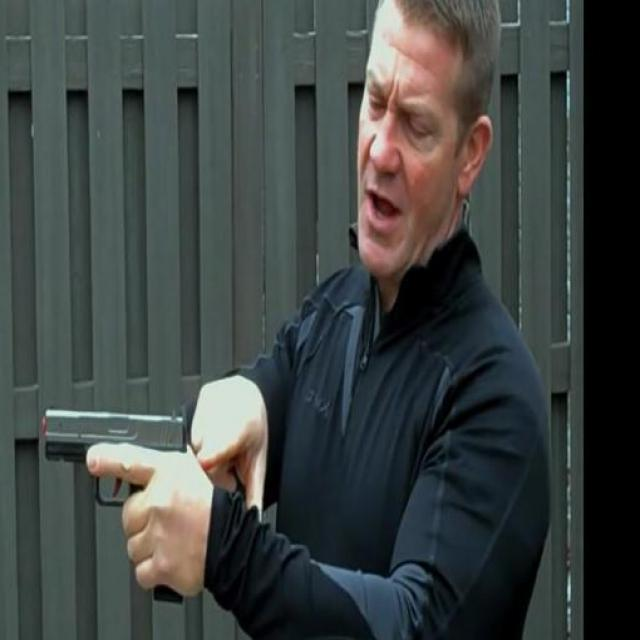Gun: (40, 398, 193, 598)
